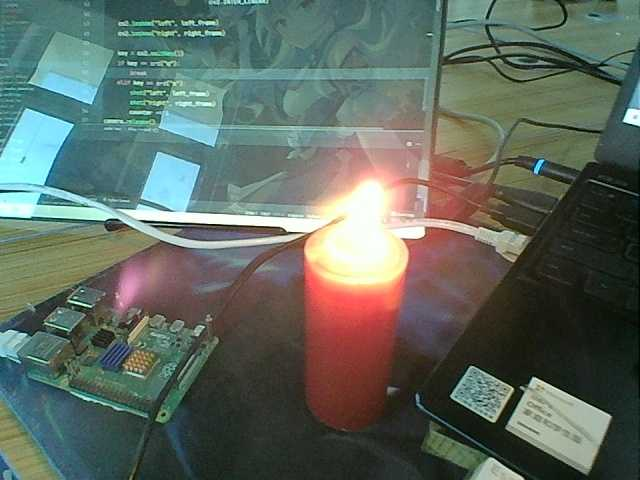candle: (306, 269, 399, 431)
fire: (331, 181, 391, 267)
